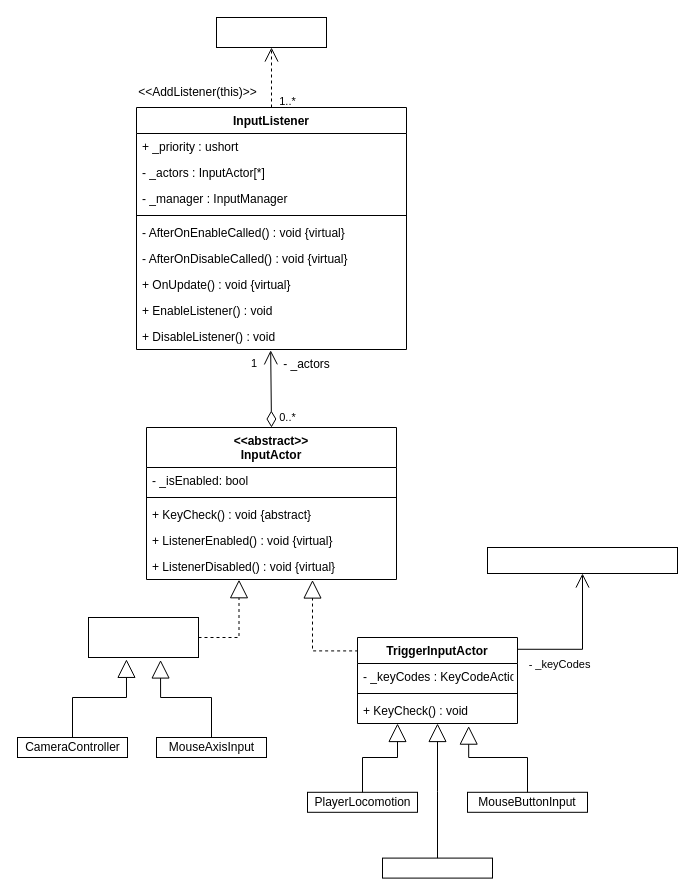
The diagram is 695 pixels wide and 896 high, and some of its shapes have lost their labels. The shapes that lost their labels are listed below. From the top down, each one's centre as x and y in pixels, then its label:
point 271,32: «Singleton» InputManager
point 582,560: Dictionary<KeyCode, Event>
point 143,637: <<abstract>> AnalogInputActor
point 437,867: KeyboardInput
